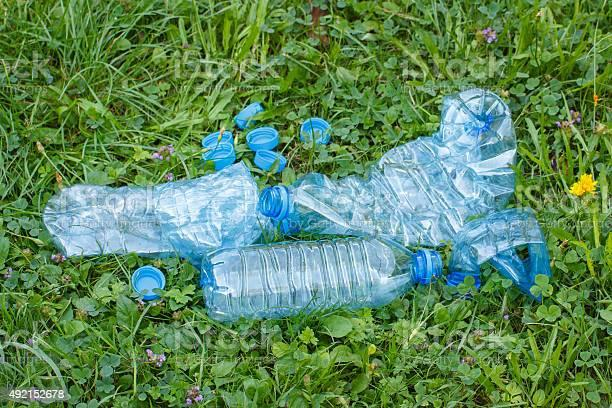plastic_bottle: (255, 90, 531, 234), (194, 240, 453, 325), (40, 172, 264, 254), (452, 203, 562, 309)
